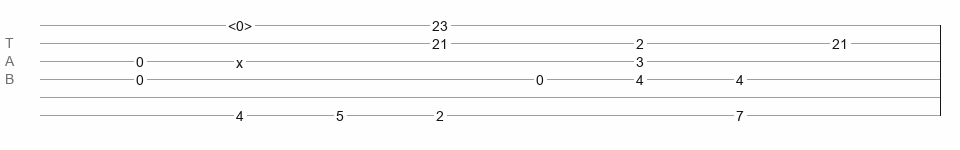0: (136, 72, 144, 82), (136, 54, 144, 64), (536, 72, 544, 82)
2: (436, 108, 444, 118), (636, 36, 644, 46)
21: (432, 36, 448, 46), (832, 36, 848, 46)
23: (432, 18, 448, 28)
3: (636, 54, 644, 64)
4: (236, 108, 244, 118), (636, 72, 644, 82), (736, 72, 744, 82)
5: (336, 108, 344, 118)
7: (736, 108, 744, 118)
harmonic: (228, 18, 252, 28)
x: (236, 55, 243, 63)
